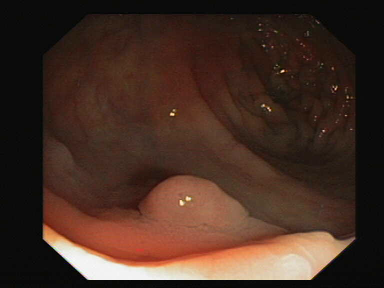polyp: (145, 151, 252, 238)
